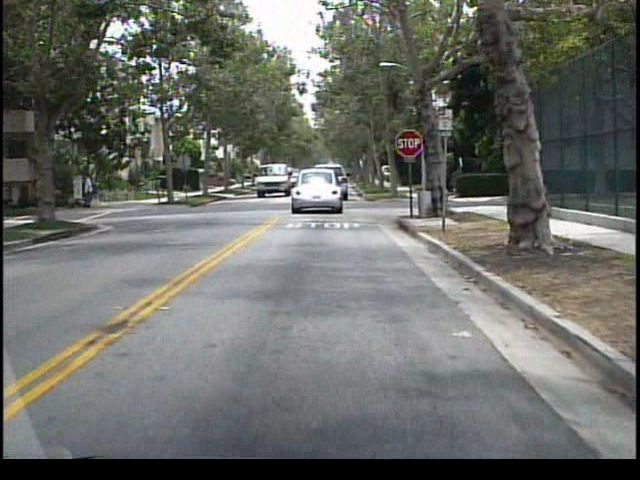person: (86, 166, 99, 211), (67, 167, 80, 211)
